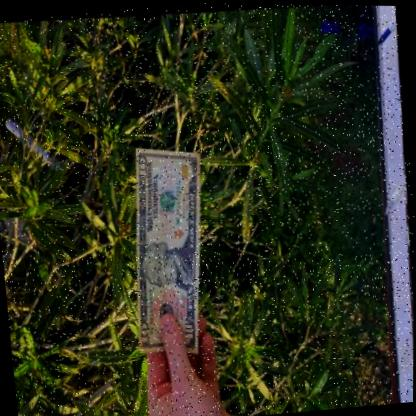ten-front: (137, 144, 201, 351)
